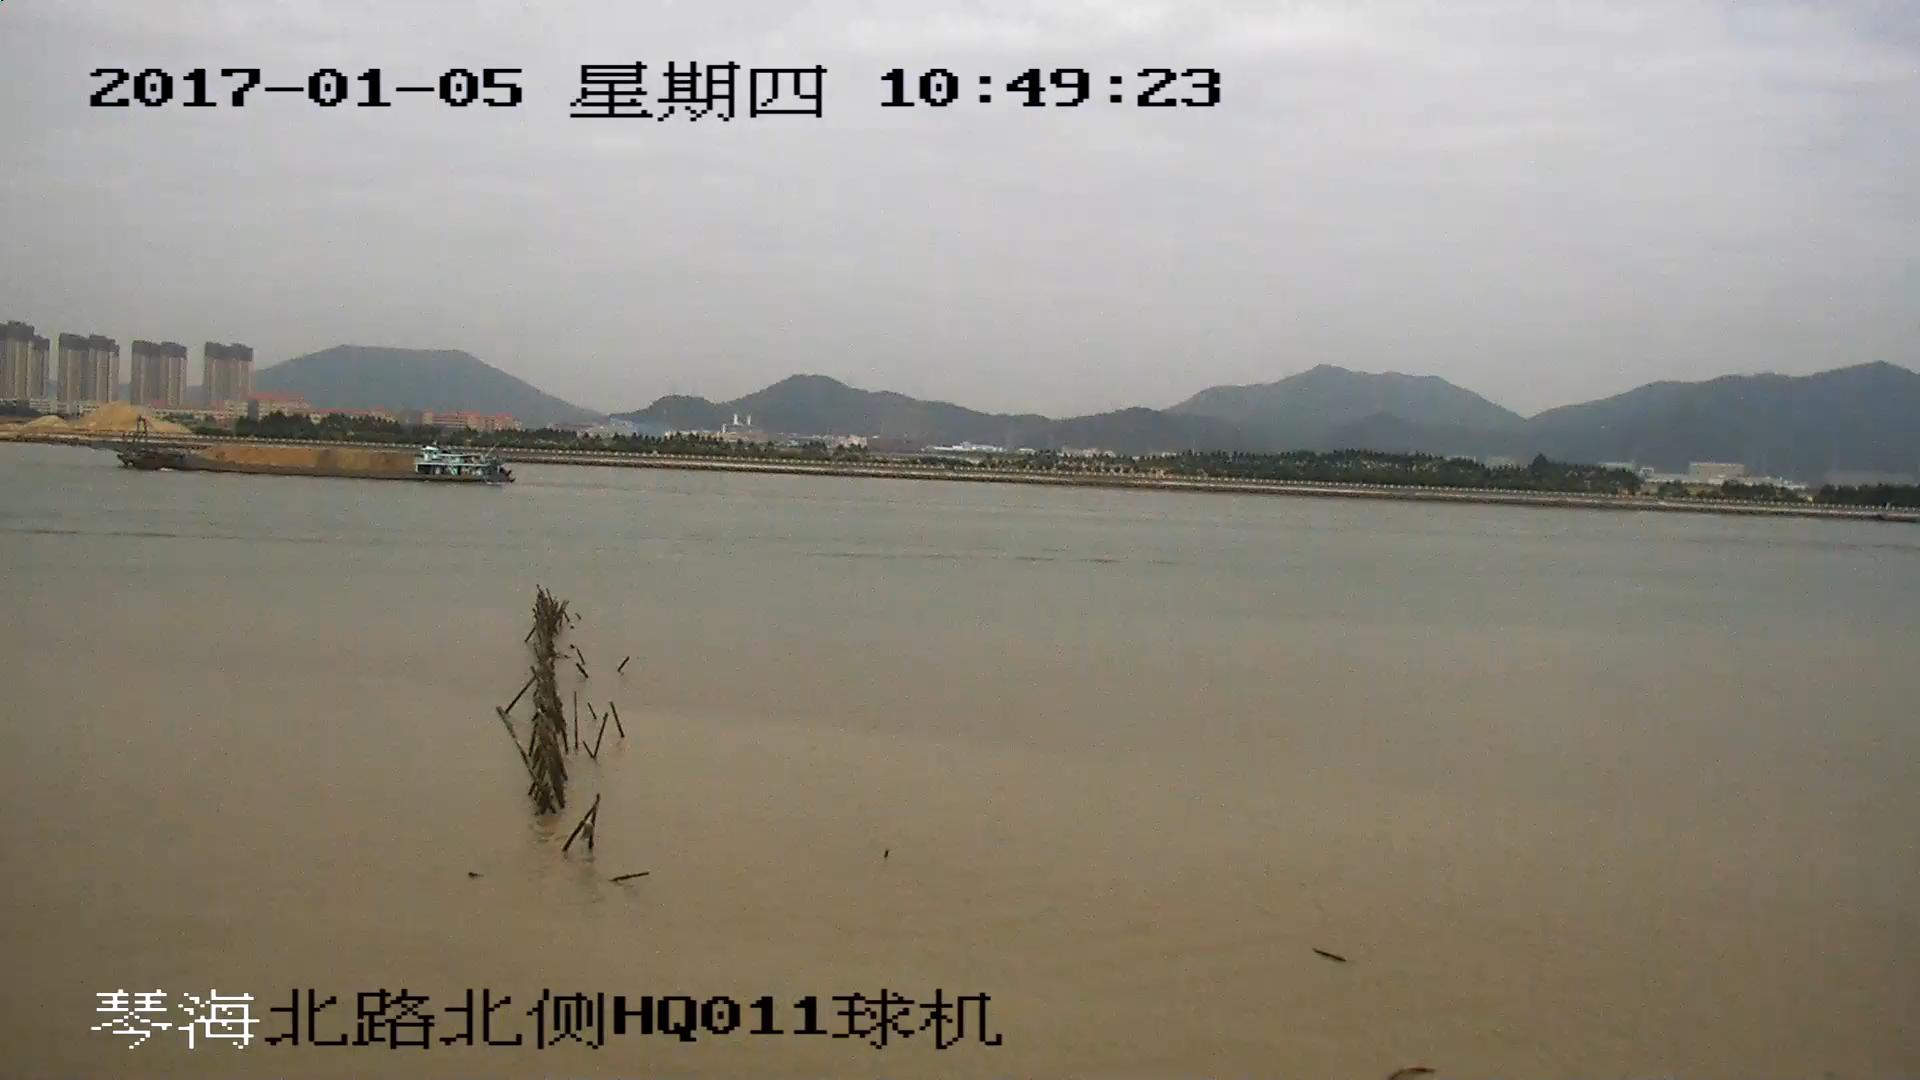ore carrier: (112, 418, 514, 486)
